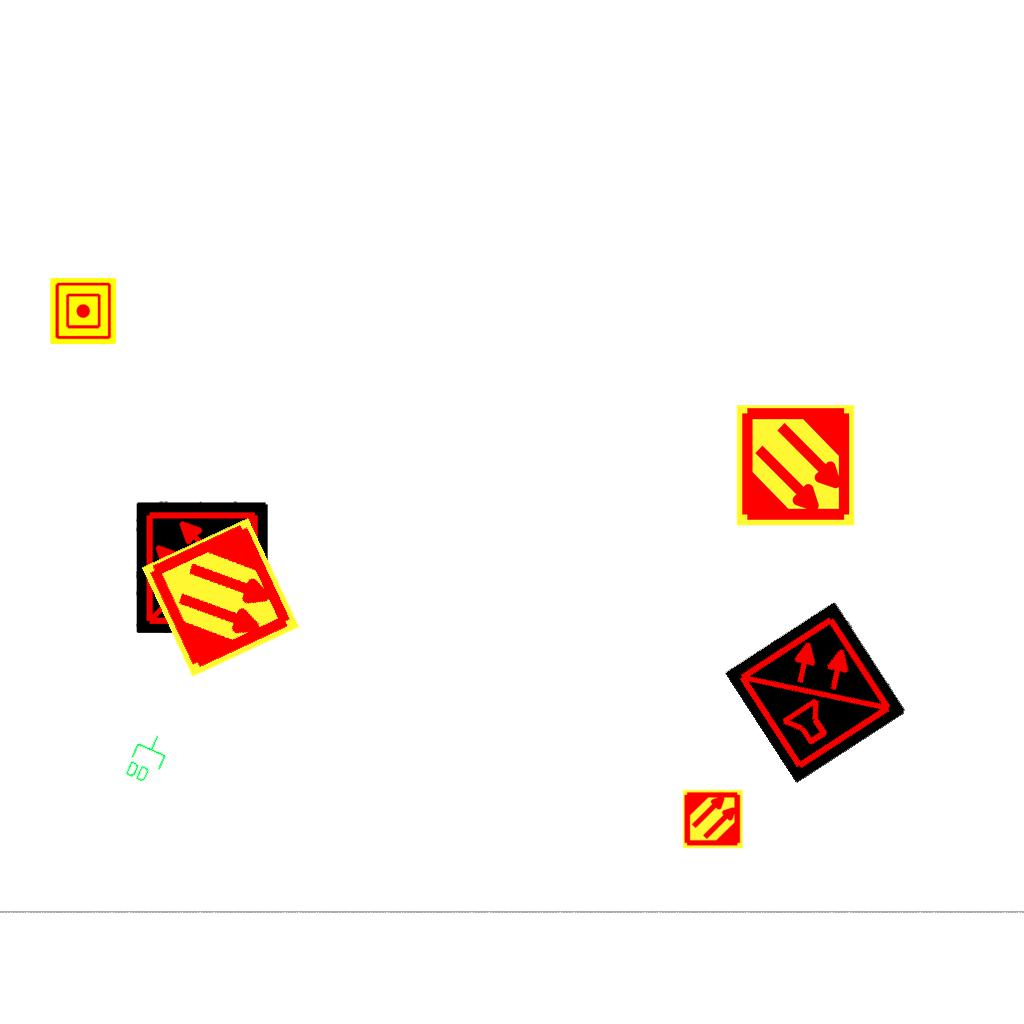ASR_Ansaugrauchmelder: (137, 514, 304, 681), (733, 403, 858, 528), (682, 788, 744, 850)
Datenanschluss_zweifach: (121, 727, 174, 789)
NAM-Nichtautomatischer_Melder: (50, 278, 116, 344)
OKW_Multisensormelder_(Kombination_optischer_Rauch-Kahlenmonoxid_Waerme-Melder): (724, 600, 908, 784), (136, 501, 268, 633)
